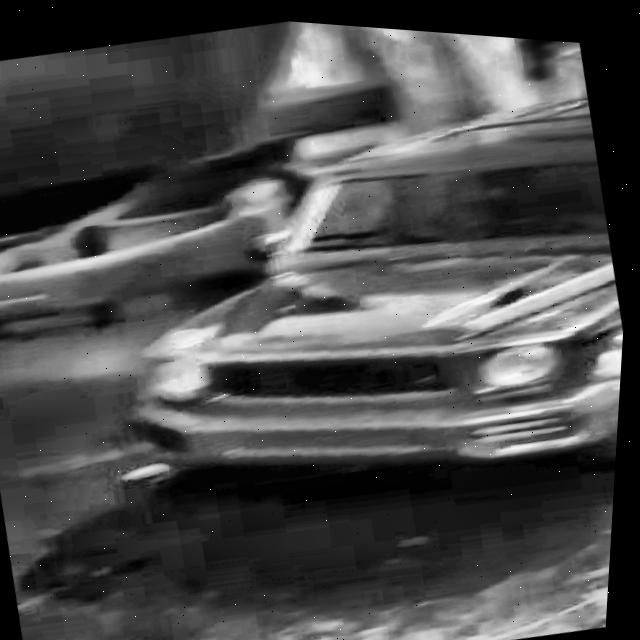light_vehicle: (81, 49, 638, 553)
